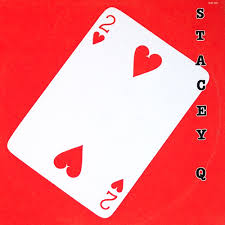two of hearts: (8, 6, 210, 218)
